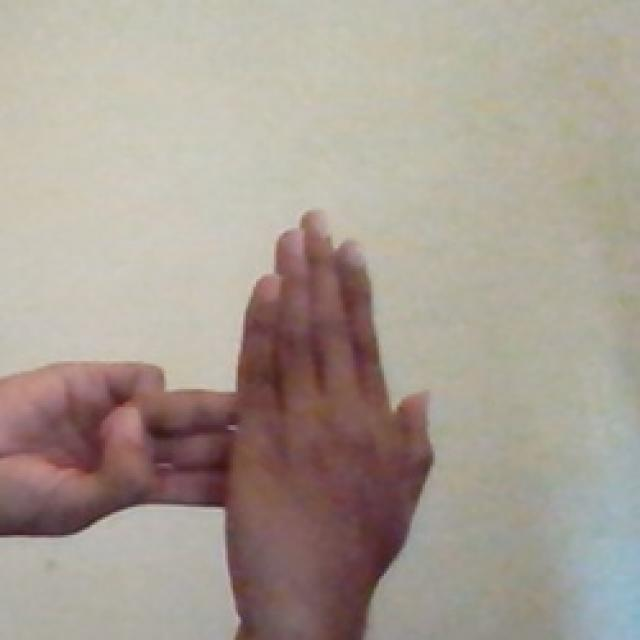Alphabet-M: (0, 202, 449, 577)
